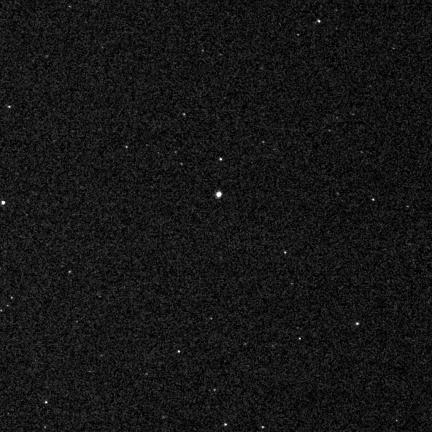blob: (215, 191, 222, 198), (2, 201, 5, 205)
